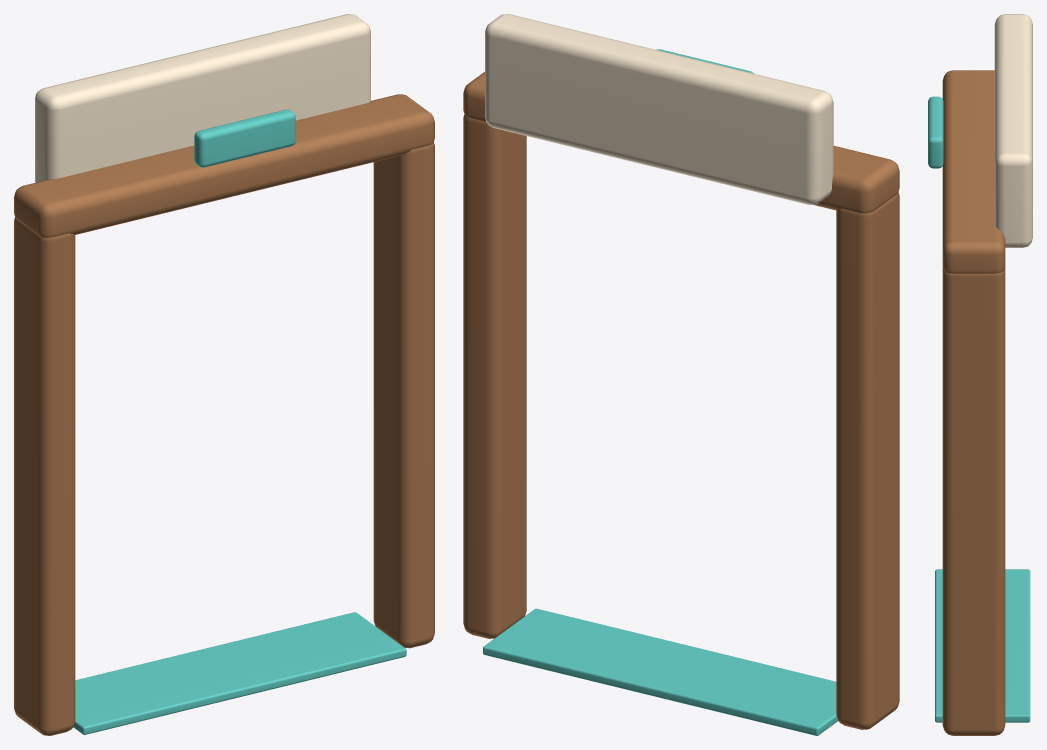
The model's file is door.glb.
3 views of the same model, side by side, from view 1: azimuth 30°, elevation 25°; view 2: azimuth 150°, elevation 25°; view 3: azimuth 270°, elevation 25° (orthographic). The views are drawn at different scales.
Visible parts, largest first — view 1: Door jamb, Door lintel wall, Door jamb.001, Door header, Threshold, Portal crest; view 2: Door lintel wall, Door jamb, Door jamb.001, Threshold, Door header; view 3: Door jamb.001, Door header, Door lintel wall, Threshold, Portal crest.
Part boxes in pixels (x1=…): Door jamb: x1=14, y1=217, x2=75, y2=735; Door lintel wall: x1=35, y1=14, x2=370, y2=182; Door jamb.001: x1=373, y1=142, x2=434, y2=648; Door header: x1=14, y1=94, x2=434, y2=237; Threshold: x1=73, y1=612, x2=406, y2=734; Portal crest: x1=194, y1=109, x2=295, y2=167; Door lintel wall: x1=485, y1=14, x2=833, y2=204; Door jamb: x1=836, y1=192, x2=899, y2=729; Door jamb.001: x1=463, y1=114, x2=526, y2=638; Threshold: x1=483, y1=608, x2=837, y2=735; Door header: x1=463, y1=72, x2=899, y2=213; Door jamb.001: x1=942, y1=267, x2=1005, y2=735; Door header: x1=942, y1=70, x2=1005, y2=273; Door lintel wall: x1=994, y1=14, x2=1032, y2=247; Threshold: x1=935, y1=569, x2=1030, y2=722; Portal crest: x1=928, y1=96, x2=943, y2=168.
Size of the model in its own units: 2.44 by 3.6 by 0.605.
